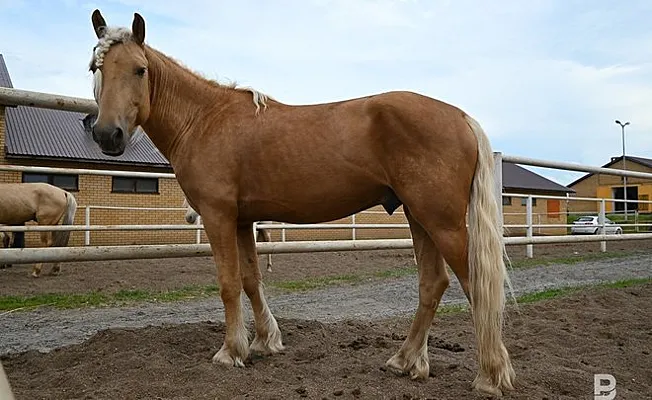horse: (91, 11, 544, 395)
